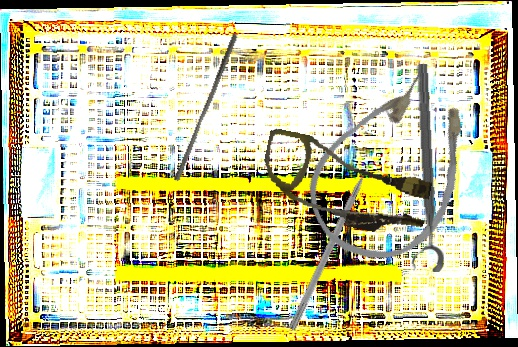Cannula: (285, 49, 505, 286), (254, 127, 437, 242)
Chopper: (287, 154, 386, 336)
Fixation Ring: (399, 63, 445, 274)
Pusher: (173, 29, 239, 185)
